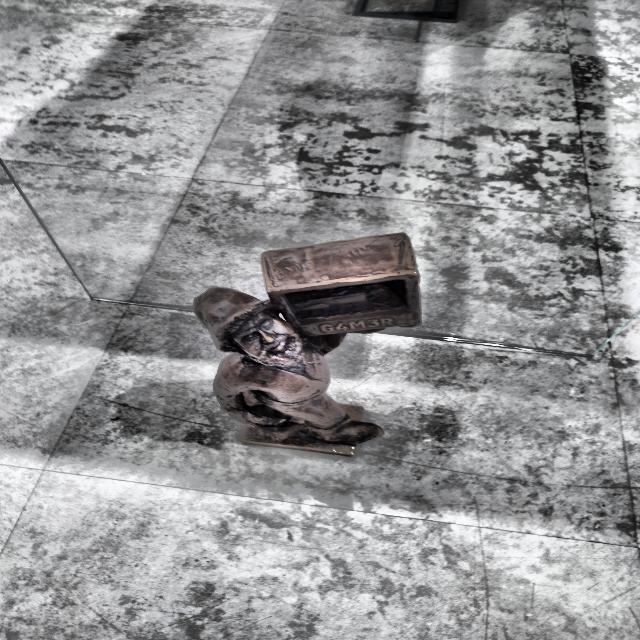GigaHercjusz: (195, 234, 420, 455)
